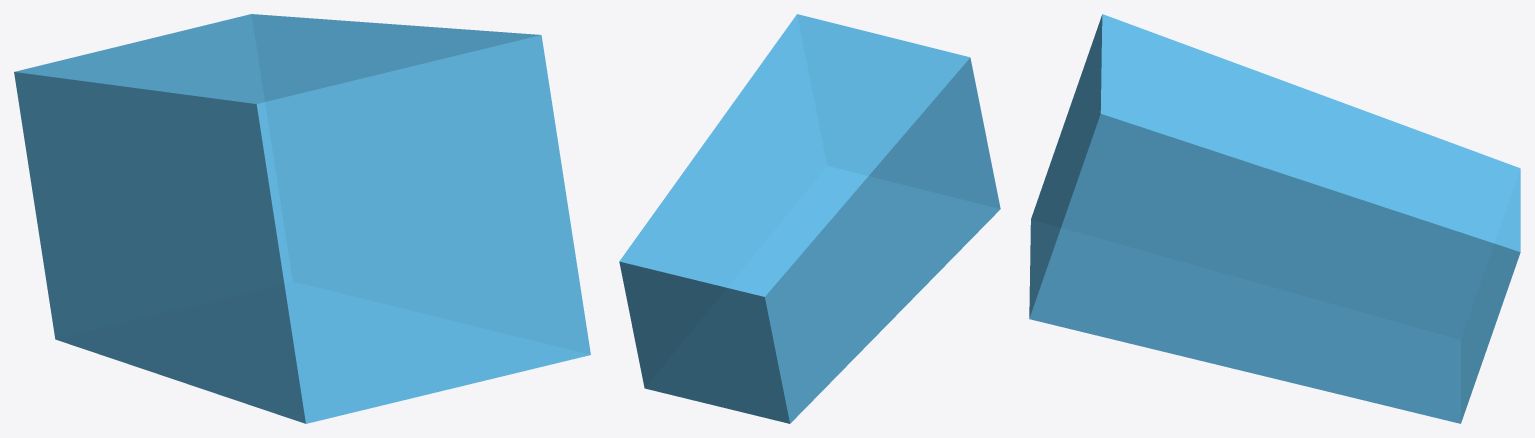
The model's file is Event_420107950_HBrechit_0.fbx.
The picture shows the model from 3 angles, left to right: view 1: azimuth 30°, elevation 25°; view 2: azimuth 150°, elevation 25°; view 3: azimuth 270°, elevation 25°; orthographic projection. The views are drawn at different scales.
Visible parts, largest first — view 1: Model; view 2: Model; view 3: Model.
Part boxes in pixels (x1,y1,x2,y2): Model: (14,14,590,423); Model: (619,14,1000,423); Model: (1029,14,1520,423).
Bounding box in the file's own units: 0.4795 × 0.692 × 0.9933.
